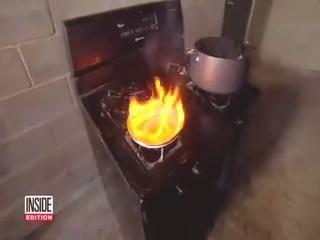Fire: (124, 64, 193, 153)
